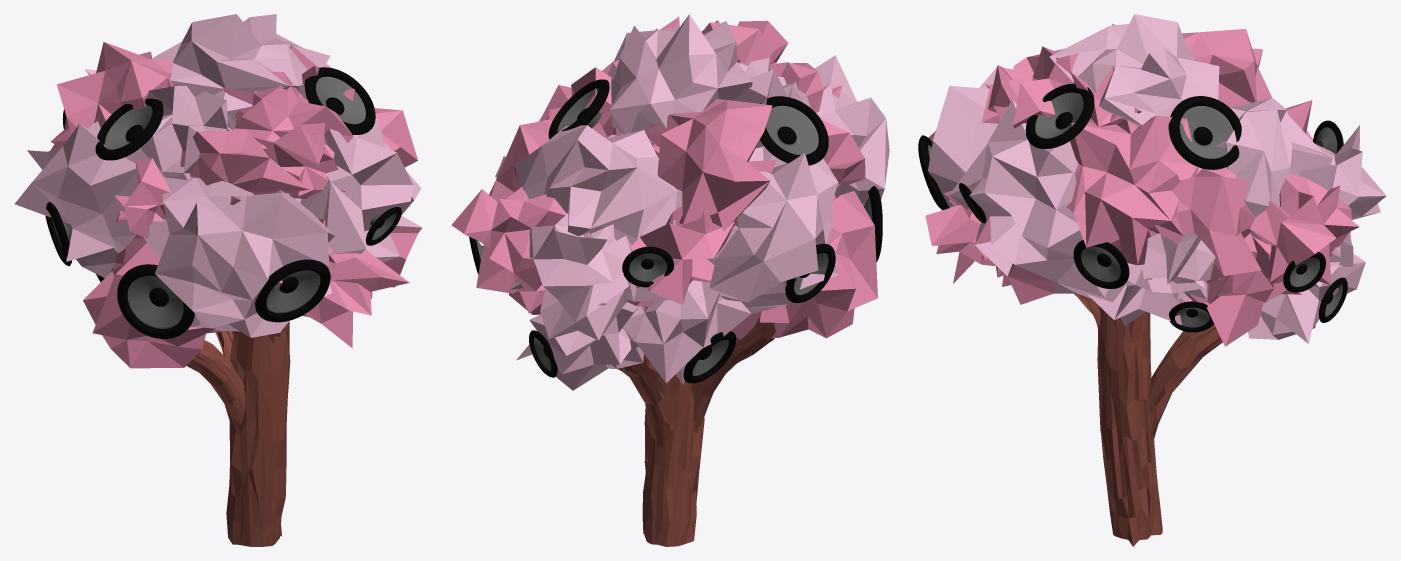
File: Cherry Speaker Tree.fbx
3 views of the same model, side by side, from view 1: azimuth 30°, elevation 25°; view 2: azimuth 150°, elevation 25°; view 3: azimuth 270°, elevation 25° (orthographic). The views are drawn at different scales.
Parts seen in each view (by area): view 1: Sphere.008, Cylinder.003, Speaker.011, Speaker.012, Speaker.003, Speaker.006, Speaker.009, Speaker.004; view 2: Sphere.008, Cylinder.003, Speaker.006, Speaker.005, Speaker.007, Speaker.010, Speaker.009, Speaker.008, Speaker.011; view 3: Sphere.008, Cylinder.003, Speaker.005, Speaker.003, Speaker, Speaker.001, Speaker.002, Speaker.008, Speaker.012, Speaker.007.
Part boxes in pixels (x1=…): Sphere.008: x1=14, y1=14, x2=422, y2=368; Cylinder.003: x1=186, y1=321, x2=290, y2=546; Speaker.011: x1=117, y1=264, x2=194, y2=338; Speaker.012: x1=255, y1=259, x2=330, y2=322; Speaker.003: x1=304, y1=67, x2=375, y2=134; Speaker.006: x1=95, y1=98, x2=163, y2=160; Speaker.009: x1=45, y1=202, x2=72, y2=266; Speaker.004: x1=365, y1=207, x2=401, y2=245; Sphere.008: x1=451, y1=14, x2=889, y2=390; Cylinder.003: x1=617, y1=317, x2=775, y2=546; Speaker.006: x1=760, y1=96, x2=828, y2=165; Speaker.005: x1=548, y1=79, x2=609, y2=139; Speaker.007: x1=622, y1=246, x2=673, y2=287; Speaker.010: x1=683, y1=331, x2=736, y2=383; Speaker.009: x1=785, y1=243, x2=835, y2=302; Speaker.008: x1=529, y1=330, x2=557, y2=377; Speaker.011: x1=864, y1=186, x2=882, y2=262; Sphere.008: x1=925, y1=14, x2=1386, y2=346; Cylinder.003: x1=1074, y1=294, x2=1222, y2=546; Speaker.005: x1=1168, y1=96, x2=1241, y2=169; Speaker.003: x1=1025, y1=83, x2=1094, y2=148; Speaker: x1=1073, y1=240, x2=1129, y2=288; Speaker.001: x1=1283, y1=252, x2=1325, y2=292; Speaker.002: x1=1169, y1=301, x2=1213, y2=332; Speaker.008: x1=1319, y1=277, x2=1347, y2=322; Speaker.012: x1=918, y1=135, x2=949, y2=210; Speaker.007: x1=1313, y1=120, x2=1343, y2=154.
Size of the model in its own units: 506 by 727 by 602.
